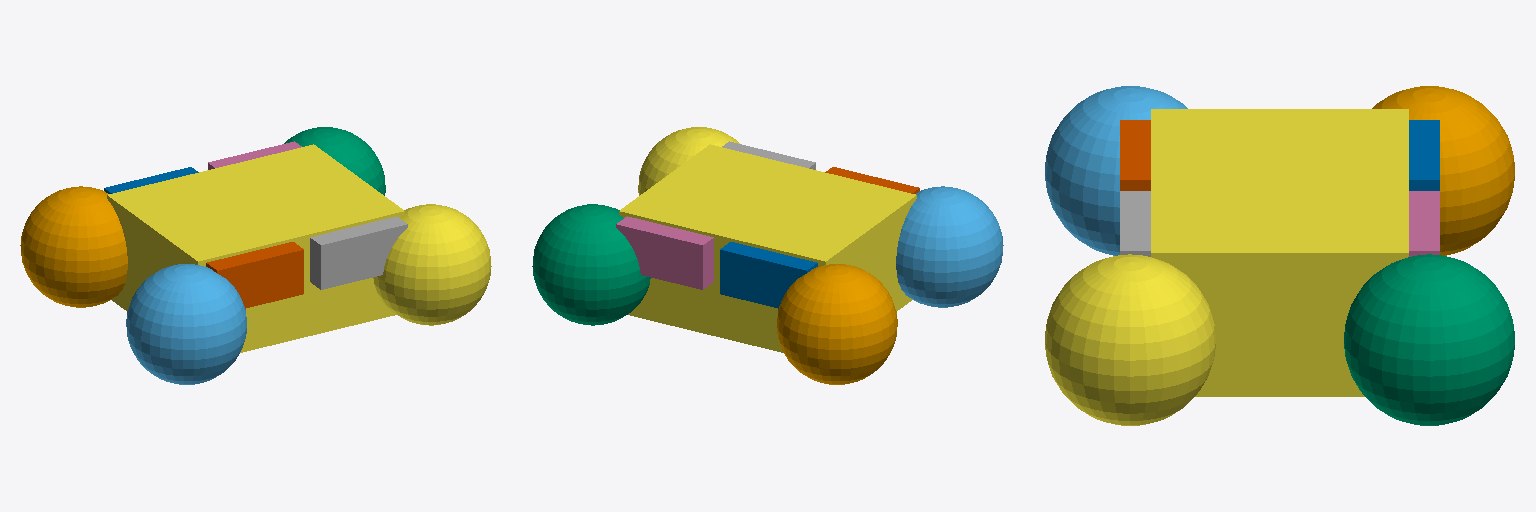
URDF robot description (TARS_V2):
<?xml version="1.0"?>
<!-- created with Phobos 0.8 -->
  <robot name="TARS_V2">

    <link name="link_camera_back">
    </link>

    <link name="link_camera_depth">
    </link>

    <link name="link_camera_front">
    </link>

    <link name="link_chassis">
      <inertial>
        <origin xyz="0 0 0.19608" rpy="0 0 0"/>
        <mass value="30.0"/>
        <inertia ixx="0.79449" ixy="0" ixz="0" iyy="1.21074" iyz="0" izz="1.56825"/>
      </inertial>
      <visual name="visual_chassis">
        <origin xyz="0 0 0" rpy="0 0 0"/>
        <geometry>
          <box size="0.63 0.48 0.29563"/>
        </geometry>
      </visual>
      <collision name="collision_chassis">
        <origin xyz="0 0 0.19608" rpy="0 0 0"/>
        <geometry>
          <box size="0.63 0.48 0.29562"/>
        </geometry>
      </collision>
    </link>

    <link name="link_suspension_backleft">
      <inertial>
        <origin xyz="-0.12007 -0.01981 -0.04013" rpy="0 0 0"/>
        <mass value="0.75"/>
        <inertia ixx="0.00147" ixy="0" ixz="0" iyy="0.00598" iyz="0" izz="0.00469"/>
      </inertial>
      <visual name="visual_suspension_backleft">
        <origin xyz="0 0 0" rpy="0 0 0"/>
        <geometry>
          <box size="0.26433 0.0781 0.12971"/>
        </geometry>
      </visual>
      <collision name="collision_suspension_backleft">
        <origin xyz="-0.12007 -0.01981 -0.04013" rpy="0 0 0"/>
        <geometry>
          <box size="0.27135 0.0381 0.14844"/>
        </geometry>
      </collision>
    </link>

    <link name="link_suspension_backright">
      <inertial>
        <origin xyz="-0.12007 0.02019 -0.04013" rpy="0 0 0"/>
        <mass value="0.75"/>
        <inertia ixx="0.00147" ixy="0" ixz="0" iyy="0.00598" iyz="0" izz="0.00469"/>
      </inertial>
      <visual name="visual_suspension_backright">
        <origin xyz="0 0 0" rpy="0 0 0"/>
        <geometry>
          <box size="0.26433 0.0781 0.12971"/>
        </geometry>
      </visual>
      <collision name="collision_suspension_backright">
        <origin xyz="-0.12007 0.02019 -0.04013" rpy="0 0 0"/>
        <geometry>
          <box size="0.27135 0.0381 0.14844"/>
        </geometry>
      </collision>
    </link>

    <link name="link_suspension_frontleft">
      <inertial>
        <origin xyz="0.12007 -0.02019 -0.04013" rpy="0 0 0"/>
        <mass value="0.75"/>
        <inertia ixx="0.00147" ixy="0" ixz="0" iyy="0.00598" iyz="0" izz="0.00469"/>
      </inertial>
      <visual name="visual_suspension_frontleft">
        <origin xyz="0 0 0" rpy="0 0 0"/>
        <geometry>
          <box size="0.26433 0.0781 0.12971"/>
        </geometry>
      </visual>
      <collision name="collision_suspension_frontleft">
        <origin xyz="0.12007 -0.02019 -0.04013" rpy="0 0 0"/>
        <geometry>
          <box size="0.27135 0.0381 0.14844"/>
        </geometry>
      </collision>
    </link>

    <link name="link_suspension_frontright">
      <inertial>
        <origin xyz="0.12007 0.01981 -0.04013" rpy="0 0 0"/>
        <mass value="0.75"/>
        <inertia ixx="0.00147" ixy="0" ixz="0" iyy="0.00598" iyz="0" izz="0.00469"/>
      </inertial>
      <visual name="visual_suspension_frontright">
        <origin xyz="0 0 0" rpy="0 0 0"/>
        <geometry>
          <box size="0.26433 0.0781 0.12972"/>
        </geometry>
      </visual>
      <collision name="collision_suspension_frontright">
        <origin xyz="0.12007 0.01981 -0.04013" rpy="0 0 0"/>
        <geometry>
          <box size="0.27134 0.0381 0.14845"/>
        </geometry>
      </collision>
    </link>

    <link name="link_wheel_backleft">
      <inertial>
        <origin xyz="0 0.10244 0" rpy="0 0 0"/>
        <mass value="1.5"/>
        <inertia ixx="0.01534" ixy="0" ixz="0" iyy="0.01534" iyz="0" izz="0.01534"/>
      </inertial>
      <visual name="visual_wheel_backleft">
        <origin xyz="0 0 0" rpy="0 0 0"/>
        <geometry>
          <sphere radius="0.15989"/>
        </geometry>
      </visual>
      <collision name="collision_wheel_backleft">
        <origin xyz="0 0.10244 0" rpy="0 0 0"/>
        <geometry>
          <sphere radius="0.15989"/>
        </geometry>
      </collision>
    </link>

    <link name="link_wheel_backright">
      <inertial>
        <origin xyz="0 -0.10254 0" rpy="0 0 0"/>
        <mass value="1.5"/>
        <inertia ixx="0.01534" ixy="0" ixz="0" iyy="0.01534" iyz="0" izz="0.01534"/>
      </inertial>
      <visual name="visual_wheel_backright">
        <origin xyz="0 0 0" rpy="0 0 0"/>
        <geometry>
          <sphere radius="0.15989"/>
        </geometry>
      </visual>
      <collision name="collision_wheel_backright">
        <origin xyz="0 -0.10254 0" rpy="0 0 0"/>
        <geometry>
          <sphere radius="0.15989"/>
        </geometry>
      </collision>
    </link>

    <link name="link_wheel_frontleft">
      <inertial>
        <origin xyz="0 0.10244 0" rpy="0 0 0"/>
        <mass value="1.5"/>
        <inertia ixx="0.01534" ixy="0" ixz="0" iyy="0.01534" iyz="0" izz="0.01534"/>
      </inertial>
      <visual name="visual_wheel_frontleft">
        <origin xyz="0 0 0" rpy="0 0 0"/>
        <geometry>
          <sphere radius="0.15989"/>
        </geometry>
      </visual>
      <collision name="collision_wheel_frontleft">
        <origin xyz="0 0.10244 0" rpy="0 0 0"/>
        <geometry>
          <sphere radius="0.15989"/>
        </geometry>
      </collision>
    </link>

    <link name="link_wheel_frontright">
      <inertial>
        <origin xyz="0 -0.10264 0" rpy="0 0 0"/>
        <mass value="1.5"/>
        <inertia ixx="0.01534" ixy="0" ixz="0" iyy="0.01534" iyz="0" izz="0.01534"/>
      </inertial>
      <visual name="visual_wheel_frontright">
        <origin xyz="0 0 0" rpy="0 0 0"/>
        <geometry>
          <sphere radius="0.15989"/>
        </geometry>
      </visual>
      <collision name="collision_wheel_frontright">
        <origin xyz="0 -0.10264 0" rpy="0 0 0"/>
        <geometry>
          <sphere radius="0.15989"/>
        </geometry>
      </collision>
    </link>

    <joint name="link_camera_back" type="fixed">
      <origin xyz="-0.315 1e-05 0.3439" rpy="3.14159 1.5708 0"/>
      <parent link="link_chassis"/>
      <child link="link_camera_back"/>
    </joint>

    <joint name="link_camera_depth" type="fixed">
      <origin xyz="0.315 1e-05 0.3439" rpy="0 1.5708 0"/>
      <parent link="link_chassis"/>
      <child link="link_camera_depth"/>
    </joint>

    <joint name="link_camera_front" type="fixed">
      <origin xyz="0.315 -0.11999 0.3439" rpy="0 1.5708 0"/>
      <parent link="link_chassis"/>
      <child link="link_camera_front"/>
    </joint>

    <joint name="link_suspension_backleft" type="fixed">
      <origin xyz="-0.15754 0.25888 0.07402" rpy="0 0 0"/>
      <parent link="link_chassis"/>
      <child link="link_suspension_backleft"/>
    </joint>

    <joint name="link_suspension_backright" type="fixed">
      <origin xyz="-0.15754 -0.25922 0.07402" rpy="0 0 0"/>
      <parent link="link_chassis"/>
      <child link="link_suspension_backright"/>
    </joint>

    <joint name="link_suspension_frontleft" type="fixed">
      <origin xyz="0.15754 0.25925 0.07402" rpy="0 0 0"/>
      <parent link="link_chassis"/>
      <child link="link_suspension_frontleft"/>
    </joint>

    <joint name="link_suspension_frontright" type="fixed">
      <origin xyz="0.15755 -0.25885 0.07403" rpy="0 0 0"/>
      <parent link="link_chassis"/>
      <child link="link_suspension_frontright"/>
    </joint>

    <joint name="link_wheel_backleft" type="floating">
      <origin xyz="-0.21346 0.01924 -0.08012" rpy="0 0 0"/>
      <parent link="link_suspension_backleft"/>
      <child link="link_wheel_backleft"/>
    </joint>

    <joint name="link_wheel_backright" type="floating">
      <origin xyz="-0.21346 -0.01886 -0.08012" rpy="0 0 0"/>
      <parent link="link_suspension_backright"/>
      <child link="link_wheel_backright"/>
    </joint>

    <joint name="link_wheel_frontleft" type="floating">
      <origin xyz="0.21346 0.01886 -0.08012" rpy="0 0 0"/>
      <parent link="link_suspension_frontleft"/>
      <child link="link_wheel_frontleft"/>
    </joint>

    <joint name="link_wheel_frontright" type="floating">
      <origin xyz="0.21345 -0.01924 -0.08014" rpy="0 0 0"/>
      <parent link="link_suspension_frontright"/>
      <child link="link_wheel_frontright"/>
    </joint>

  </robot>

--- What the picture shows (computed from the rendered views, not written in the file) ---
Views: 3 orthographic renders of the robot side by side, from view 1: azimuth 30°, elevation 25°; view 2: azimuth 150°, elevation 25°; view 3: azimuth 270°, elevation 25°.
Model TARS_V2 with 12 links and 11 joints (7 fixed, 4 floating), rooted at link_chassis, posed every joint at zero.
Links seen in each view (by area): view 1: link_chassis, link_wheel_backright, link_wheel_frontright, link_wheel_backleft, link_suspension_frontright, link_suspension_backright, link_wheel_frontleft, link_suspension_frontleft, link_suspension_backleft; view 2: link_chassis, link_wheel_backleft, link_wheel_frontleft, link_wheel_backright, link_suspension_frontleft, link_suspension_backleft, link_wheel_frontright, link_suspension_frontright, link_suspension_backright; view 3: link_chassis, link_wheel_frontright, link_wheel_frontleft, link_wheel_backleft, link_wheel_backright, link_suspension_backleft, link_suspension_backright, link_suspension_frontright, link_suspension_frontleft.
Boxes of the visible links, bbox=[...] form: link_chassis: bbox=[107, 144, 404, 352]; link_wheel_backright: bbox=[126, 264, 246, 384]; link_wheel_frontright: bbox=[373, 204, 491, 325]; link_wheel_backleft: bbox=[20, 186, 127, 307]; link_suspension_frontright: bbox=[310, 216, 407, 289]; link_suspension_backright: bbox=[206, 242, 303, 308]; link_wheel_frontleft: bbox=[284, 127, 385, 195]; link_suspension_frontleft: bbox=[208, 141, 301, 169]; link_suspension_backleft: bbox=[104, 167, 198, 193]; link_chassis: bbox=[619, 144, 916, 352]; link_wheel_backleft: bbox=[777, 264, 897, 384]; link_wheel_frontleft: bbox=[532, 204, 650, 325]; link_wheel_backright: bbox=[896, 186, 1003, 307]; link_suspension_frontleft: bbox=[616, 216, 713, 289]; link_suspension_backleft: bbox=[720, 242, 817, 308]; link_wheel_frontright: bbox=[638, 127, 739, 195]; link_suspension_frontright: bbox=[722, 141, 815, 169]; link_suspension_backright: bbox=[825, 167, 919, 193]; link_chassis: bbox=[1151, 109, 1408, 396]; link_wheel_frontright: bbox=[1045, 254, 1215, 425]; link_wheel_frontleft: bbox=[1344, 254, 1514, 425]; link_wheel_backleft: bbox=[1372, 86, 1514, 255]; link_wheel_backright: bbox=[1045, 86, 1187, 255]; link_suspension_backleft: bbox=[1409, 120, 1439, 190]; link_suspension_backright: bbox=[1120, 120, 1150, 190]; link_suspension_frontright: bbox=[1120, 191, 1150, 256]; link_suspension_frontleft: bbox=[1409, 191, 1439, 256].
Bounding box of the posed robot: 1.06 × 0.876 × 0.3198 m (x, y, z).
Geometry: primitives only (box / cylinder / sphere), no mesh files.